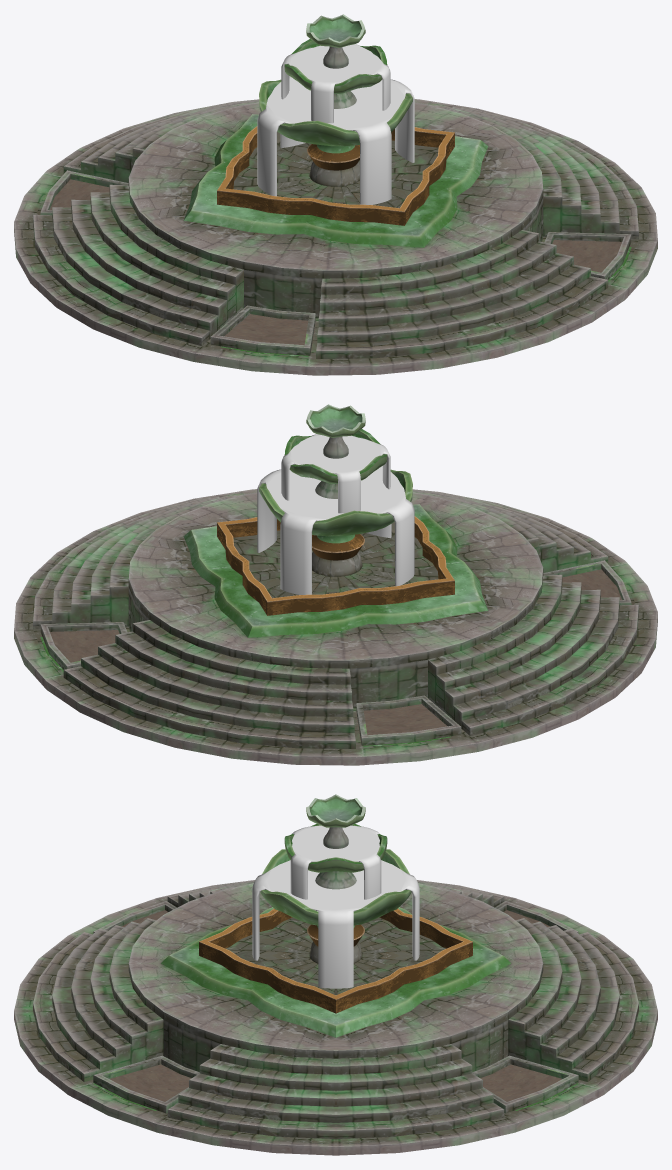
The model's file is Fountain.fbx.
3 views of the same model, one above another, from view 1: azimuth 30°, elevation 25°; view 2: azimuth 150°, elevation 25°; view 3: azimuth 270°, elevation 25° (orthographic).
Visible parts, largest first — view 1: Circle.001, Plane.001; view 2: Circle.001, Plane.001; view 3: Circle.001, Plane.001.
Part boxes in pixels (<box>): Circle.001: <box>14,14,657,375</box>; Plane.001: <box>257,44,414,204</box>; Circle.001: <box>14,404,657,765</box>; Plane.001: <box>257,434,414,594</box>; Circle.001: <box>14,794,657,1155</box>; Plane.001: <box>252,825,419,988</box>.
Bounding box in the file's own units: 1459 × 532 × 1459.
